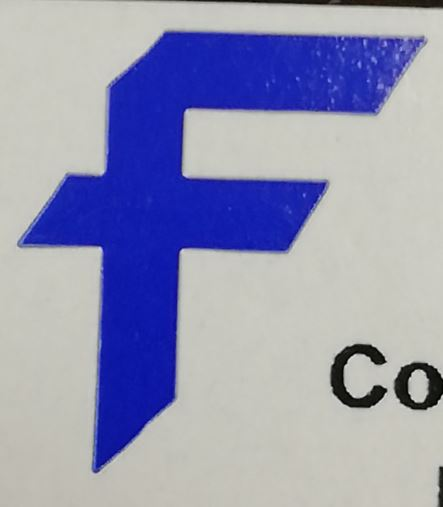Fisher: (18, 29, 431, 474)
